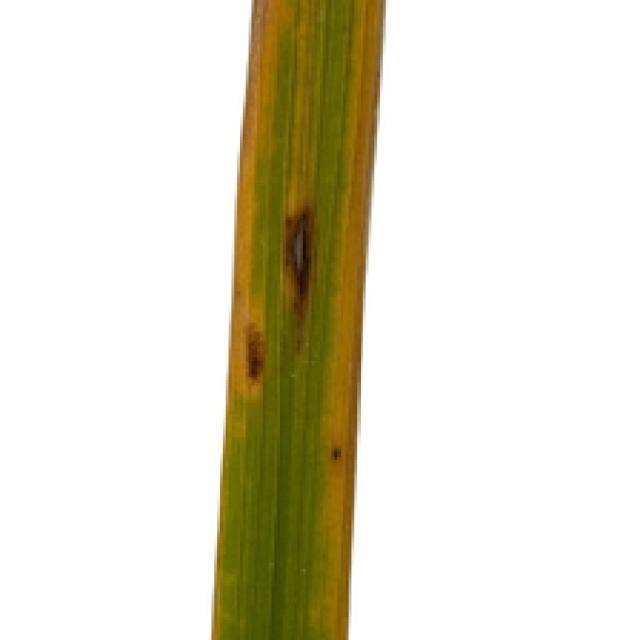Rice___Rice_Blast: (214, 0, 384, 637)
